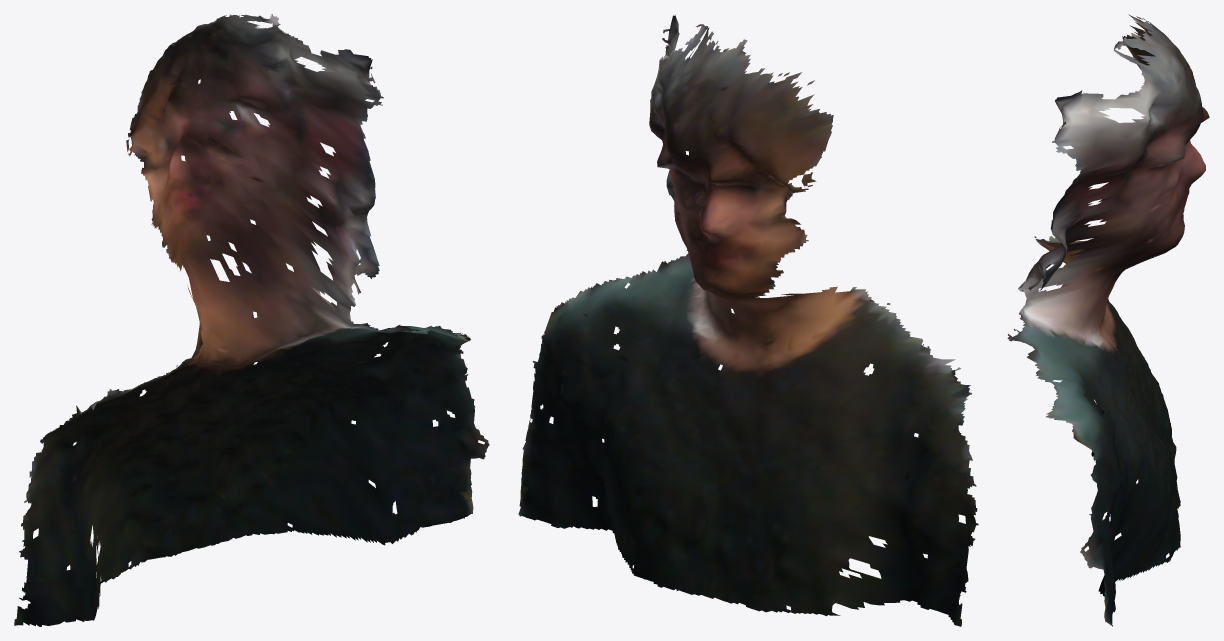
File: tim1_3.glb
3 renders of one model, left to right at view 1: azimuth 30°, elevation 25°; view 2: azimuth 150°, elevation 25°; view 3: azimuth 270°, elevation 25°, orthographic. The views are drawn at different scales.
Visible parts, largest first — view 1: output_tim1.001; view 2: output_tim1.001; view 3: output_tim1.001.
Boxes of the visible parts, x1,y1,x2,y2 form: output_tim1.001: (14,14,489,626); output_tim1.001: (518,15,978,626); output_tim1.001: (1007,14,1209,626).
Bounding box in the file's own units: 0.4657 × 0.5307 × 0.1939.
